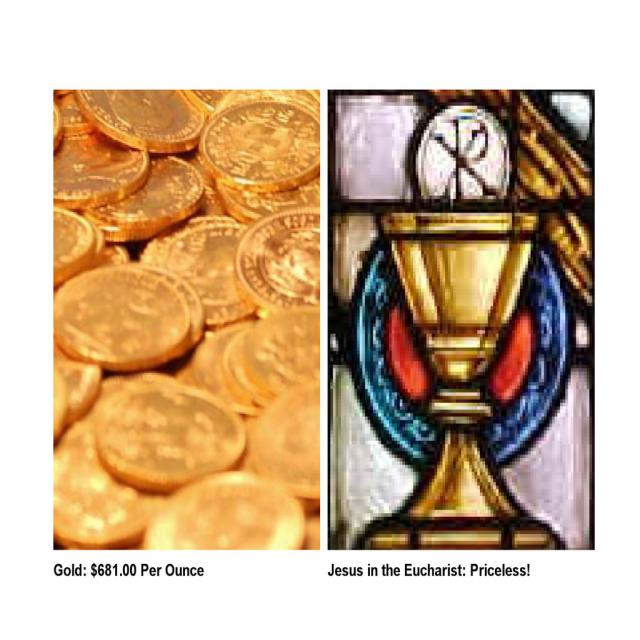Coin: (52, 86, 320, 549)
